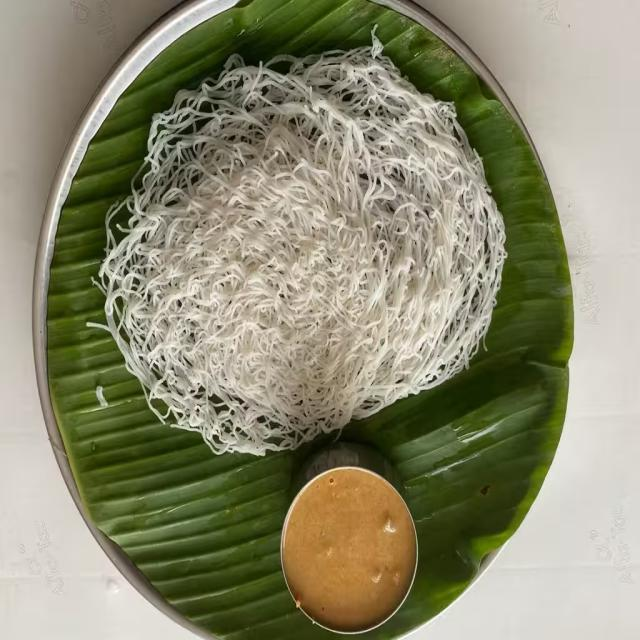CURRY: (283, 468, 415, 633)
IDIYAPPAM: (95, 45, 512, 460)
